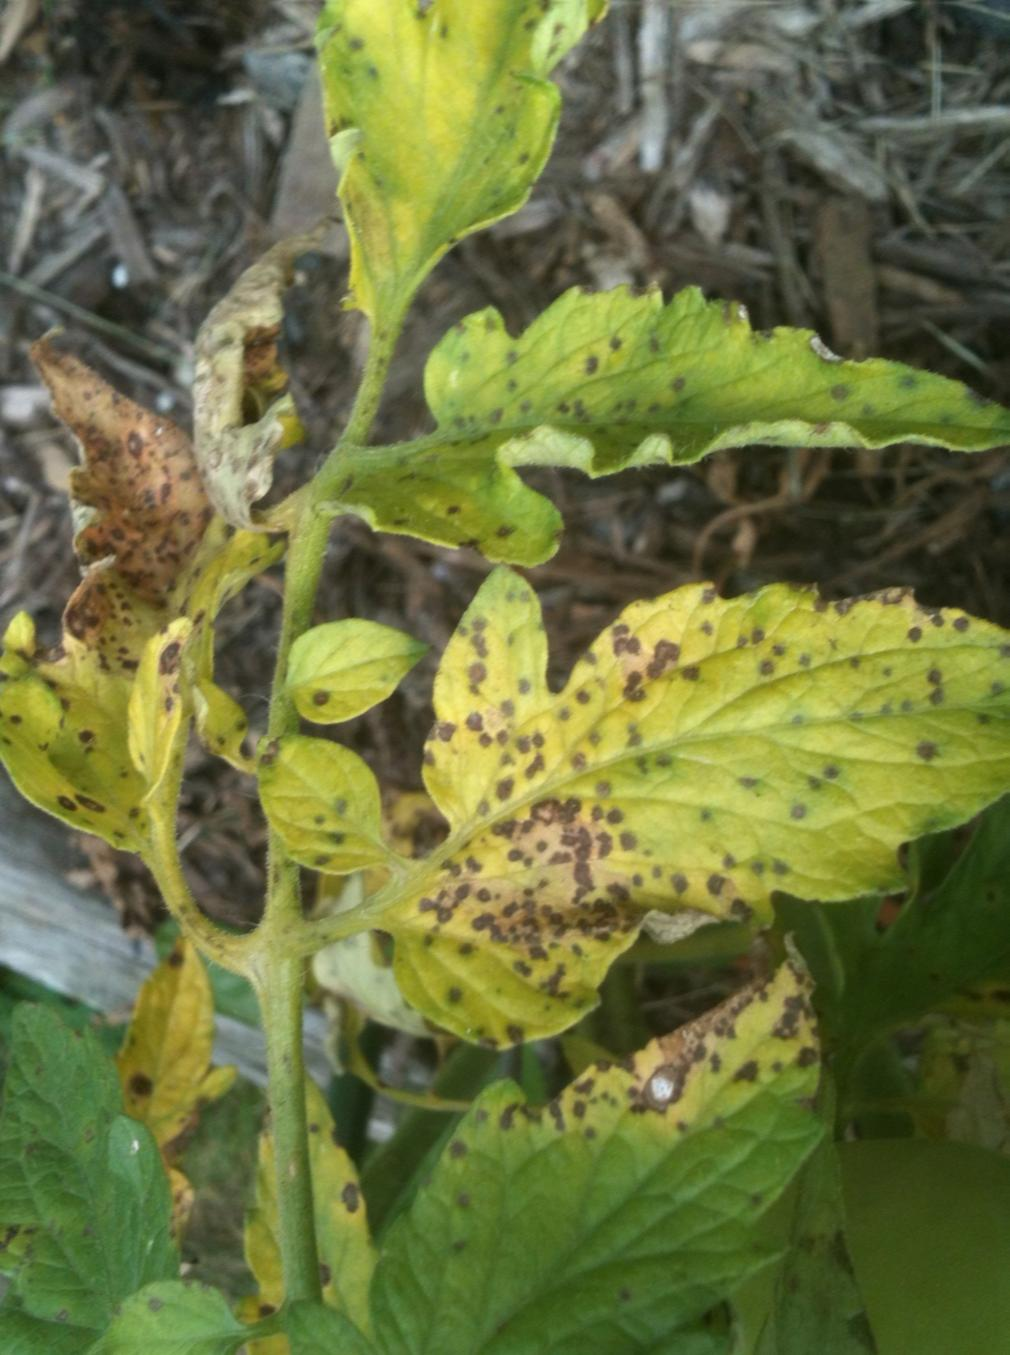Tomato Septoria leaf spot: (366, 543, 1010, 1039), (289, 281, 1010, 601), (252, 992, 841, 1355), (0, 268, 213, 901), (286, 0, 602, 325)
